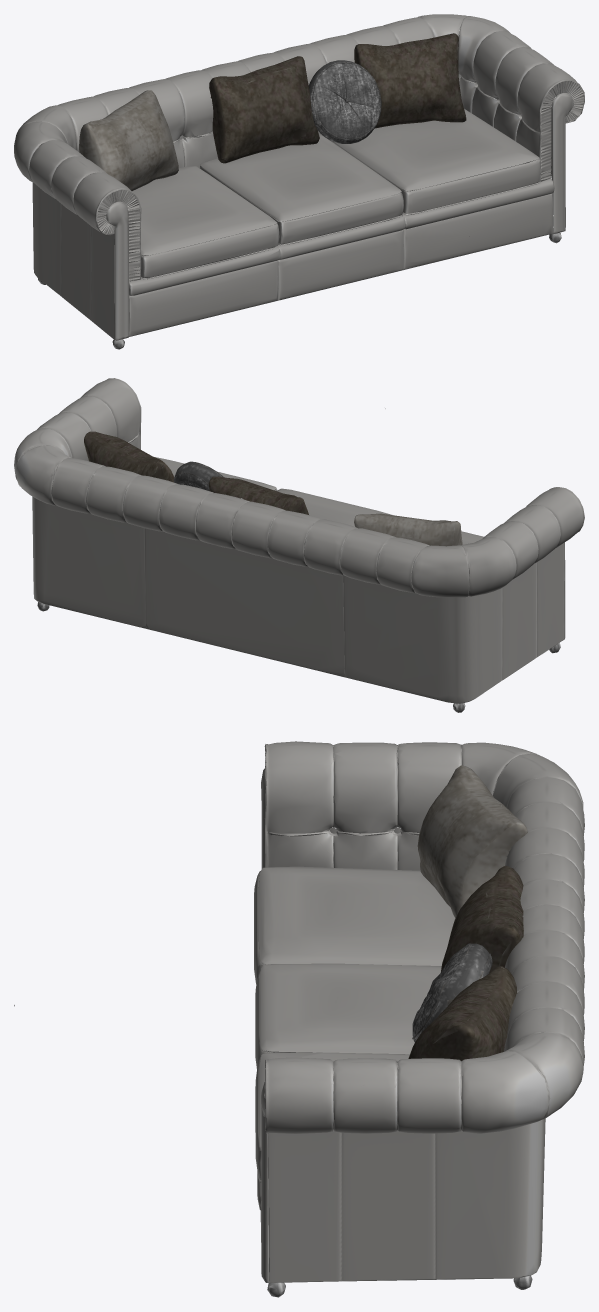
Rendered from Three_Seat_Multi_person_sofa_8c8fb17c-74cf-5816-8db3-0781f662bf0e.glb.
3 views of the same model, one above another, from view 1: azimuth 30°, elevation 25°; view 2: azimuth 150°, elevation 25°; view 3: azimuth 270°, elevation 25° (orthographic). The views are drawn at different scales.
Visible parts, largest first — view 1: raw_model.obj; view 2: raw_model.obj; view 3: raw_model.obj.
Boxes of the visible parts, x1,y1,x2,y2 form: raw_model.obj: (14,14,584,349); raw_model.obj: (14,378,584,712); raw_model.obj: (14,741,584,1297).
Size of the model in its own units: 2.37 by 0.7882 by 1.65.
Materials: 1 (1 with a texture image).
